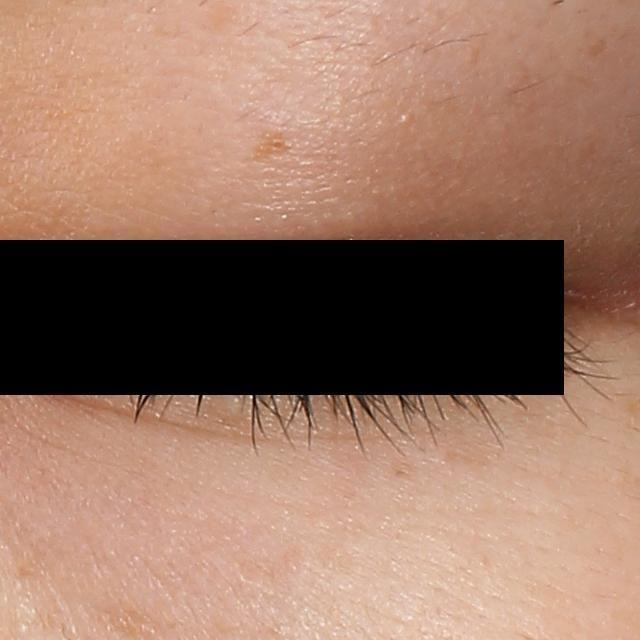melasma: (243, 132, 307, 165), (585, 38, 612, 59)
